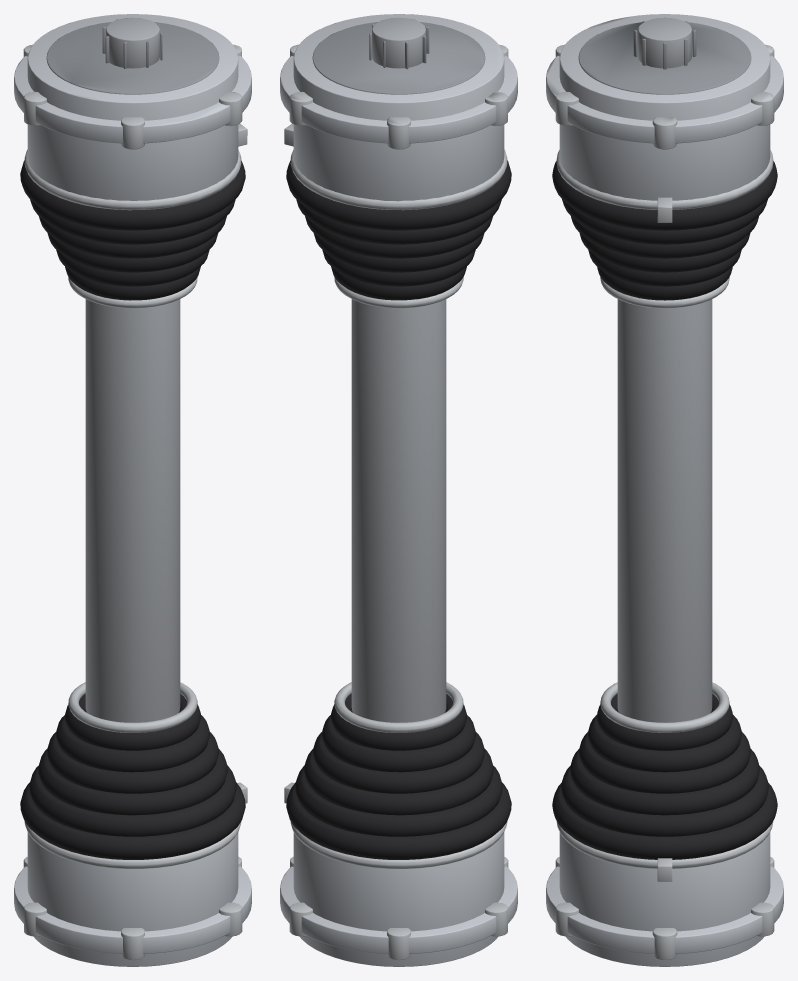
The model's file is driveshaft.glb.
3 renders of one model, left to right at view 1: azimuth 30°, elevation 25°; view 2: azimuth 150°, elevation 25°; view 3: azimuth 270°, elevation 25°, orthographic.
Visible parts, largest first — view 1: driveshaft; view 2: driveshaft; view 3: driveshaft.
Boxes of the visible parts, <box> form: driveshaft: <box>14,14,251,966</box>; driveshaft: <box>280,14,517,966</box>; driveshaft: <box>546,14,783,966</box>.
Bounding box in the file's own units: 0.1868 × 0.754 × 0.176.
Materials: 5 (5 with a texture image).
